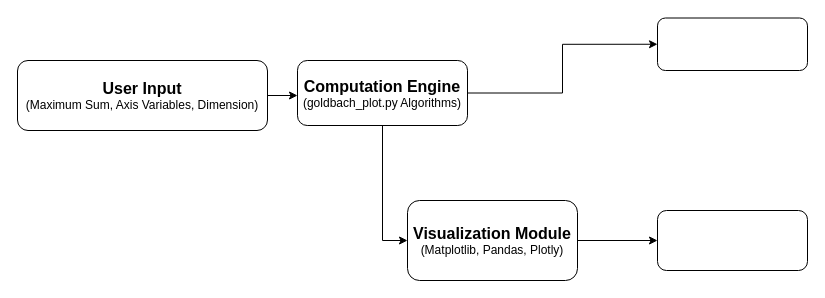
This 825x298 diagram has some shape labels left out. Here are the shapes that lost their labels. From the top down, the centre of each, then its label:
the point at 732,43: CSV Output
the point at 732,240: HTML Plot Output
